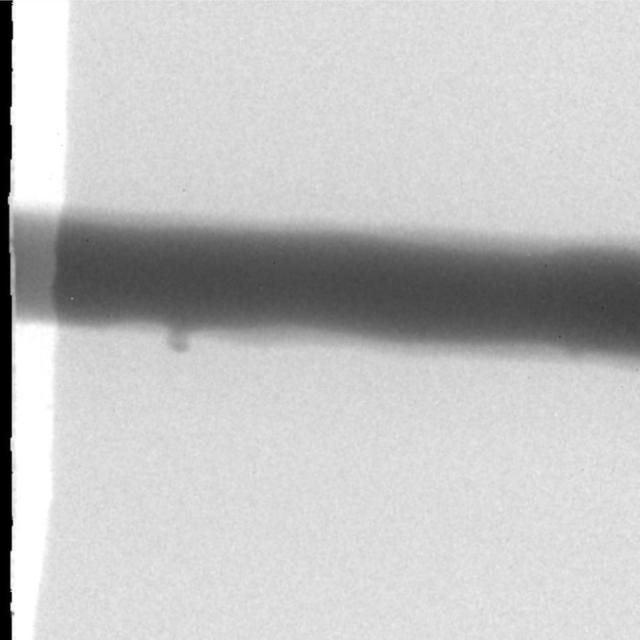overlap: (163, 320, 190, 351)
